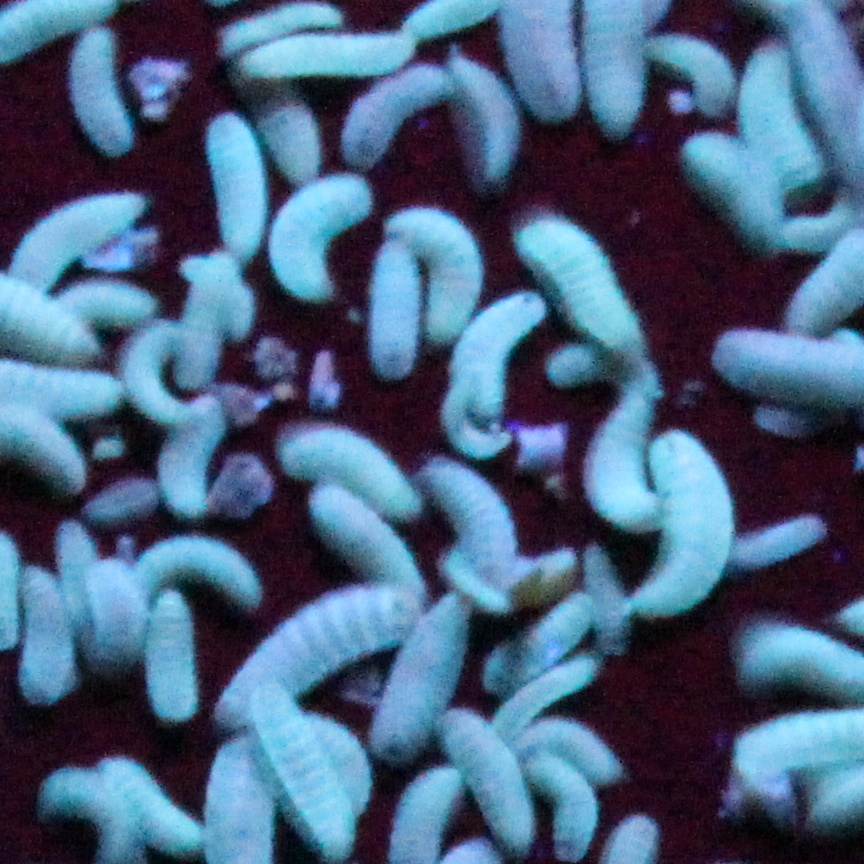larve: (220, 595, 420, 731), (250, 675, 362, 856), (523, 219, 645, 363), (379, 597, 476, 763), (637, 441, 725, 614), (420, 460, 520, 599), (681, 124, 789, 251), (384, 207, 484, 341), (269, 173, 372, 302), (452, 287, 550, 419), (735, 34, 823, 180), (284, 421, 420, 512), (335, 65, 454, 168), (447, 712, 537, 848), (8, 197, 152, 282), (311, 485, 425, 592), (591, 385, 672, 531), (486, 592, 596, 687), (206, 109, 271, 260), (237, 29, 413, 82), (69, 24, 137, 156), (447, 53, 518, 178), (130, 319, 211, 426), (111, 758, 201, 853), (150, 541, 267, 607), (20, 568, 76, 704), (530, 753, 601, 858), (152, 595, 208, 724), (520, 719, 625, 782), (86, 565, 145, 668), (720, 519, 830, 573), (159, 419, 215, 521), (189, 260, 254, 346), (579, 551, 630, 658), (264, 109, 330, 185), (54, 517, 91, 617)
